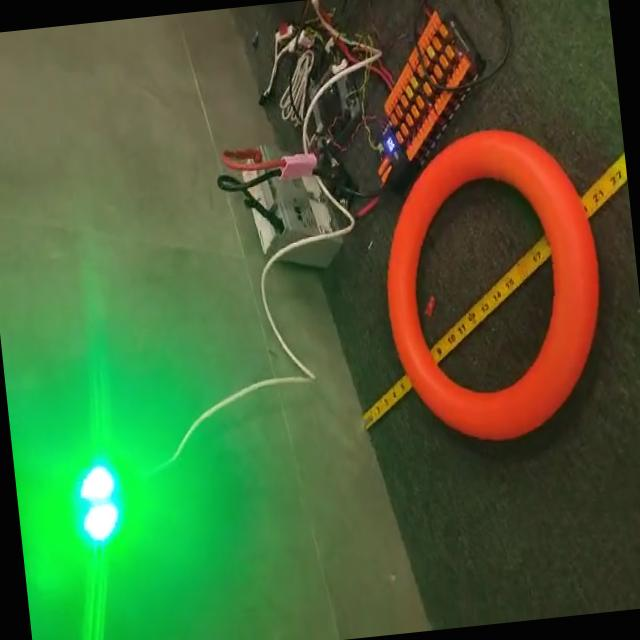note: (368, 121, 618, 452)
